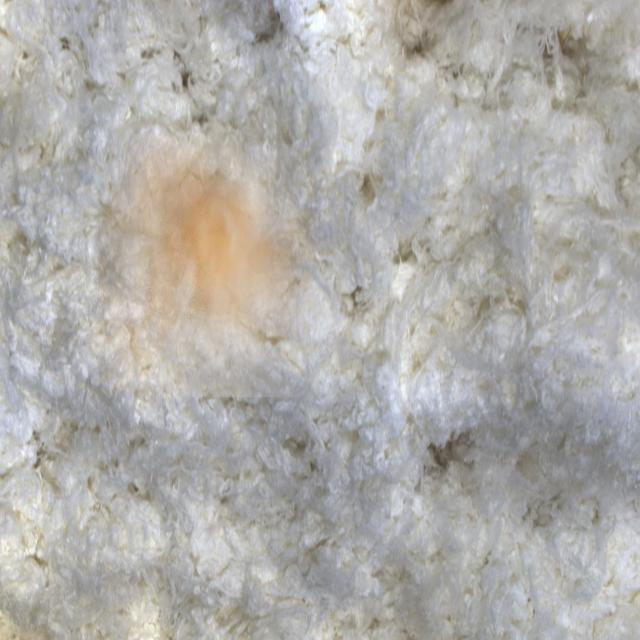dust: (99, 120, 317, 398)
